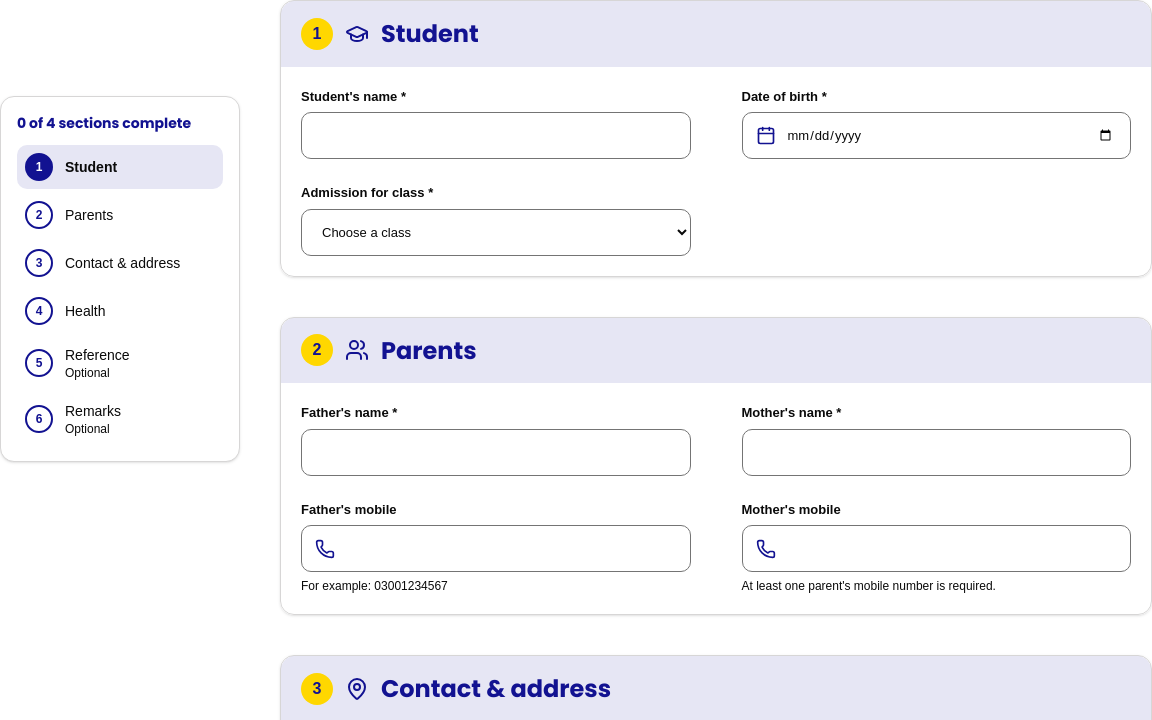
Scenario: RegistrationForm › progress (026) › a section turns done once all its required fields are valid
Type "Zartasha Testchild" into the field labelled "Student's name *" at (496, 136), box [301,112,690,159]
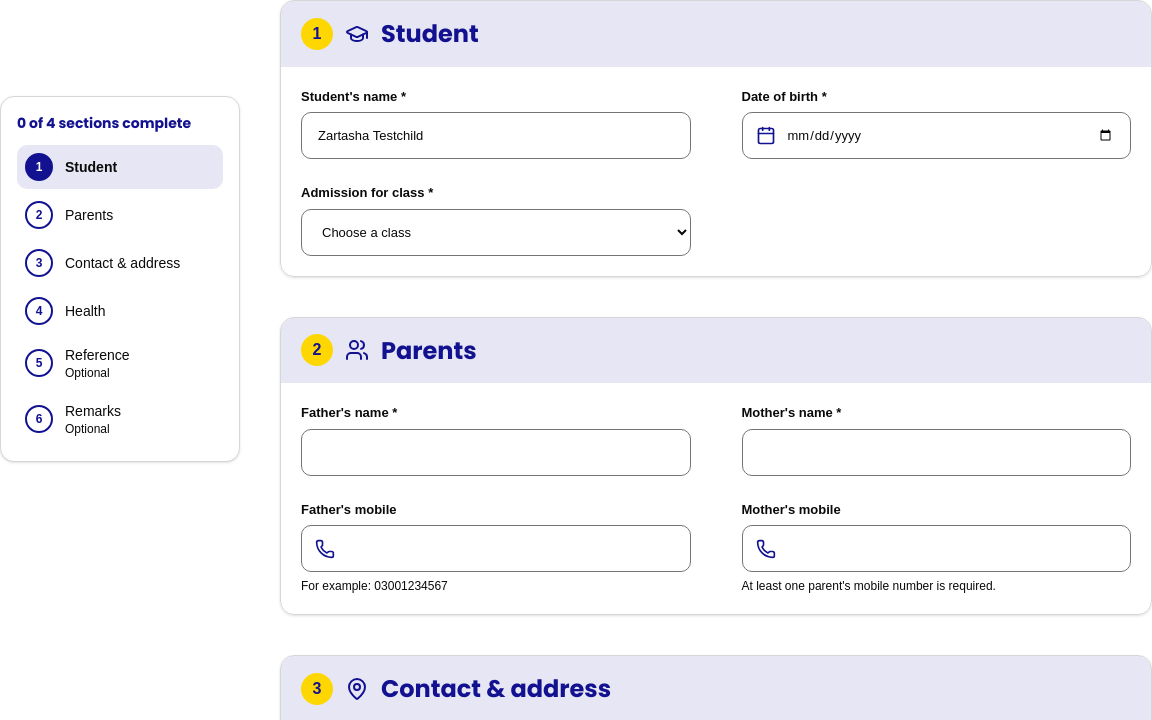
Type "2020-05-01" into the date field labelled "Date of birth *" at (936, 136), box [742,112,1131,159]
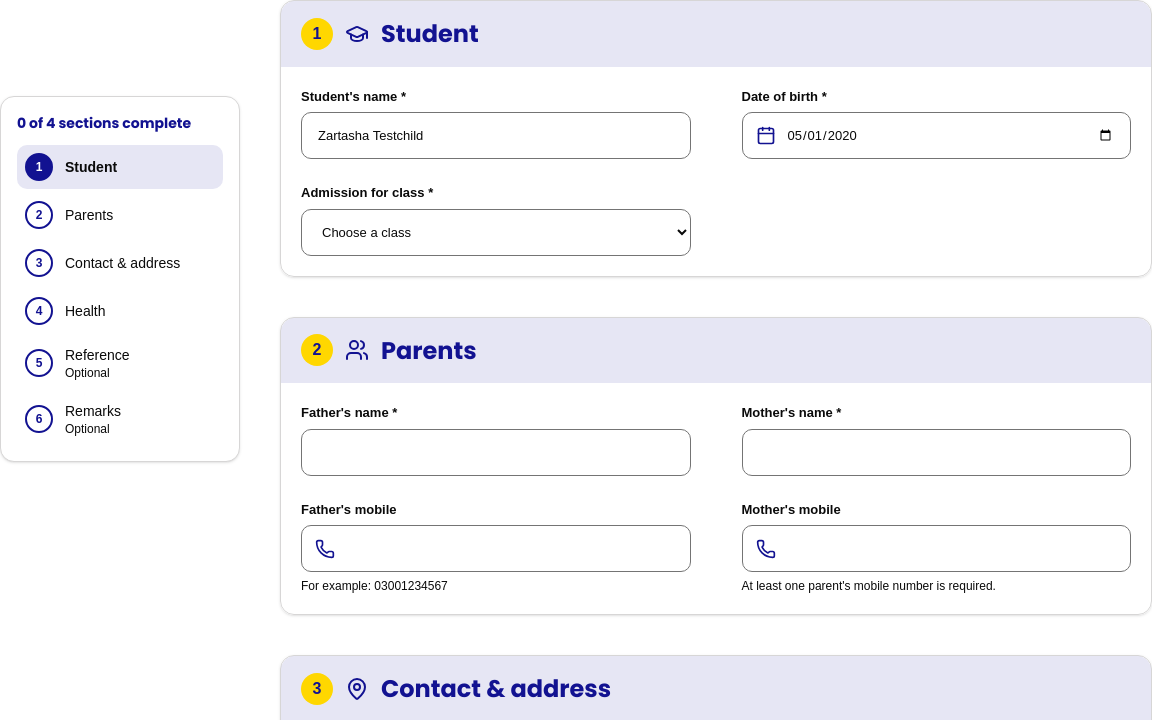
Select "Class 1" in the dropdown labelled "Admission for class *" at (496, 232), box [301,209,690,256]
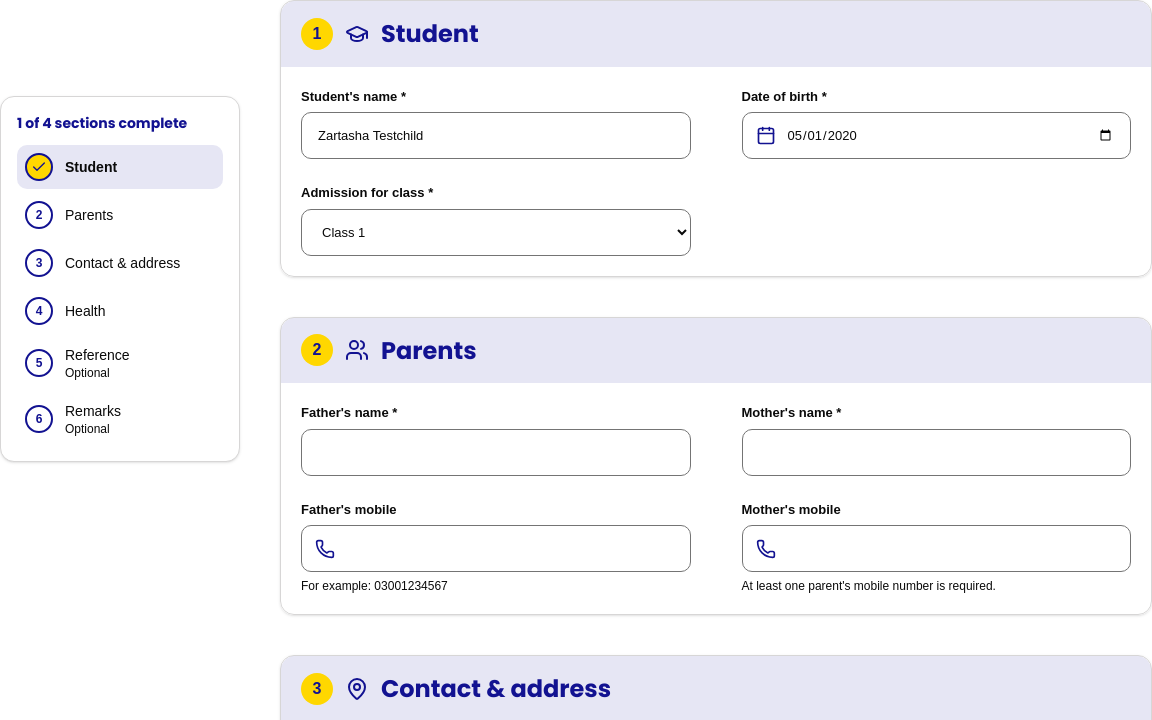
Expected: the text "1 of 4 sections complete" is shown, [17,113,187,133]
